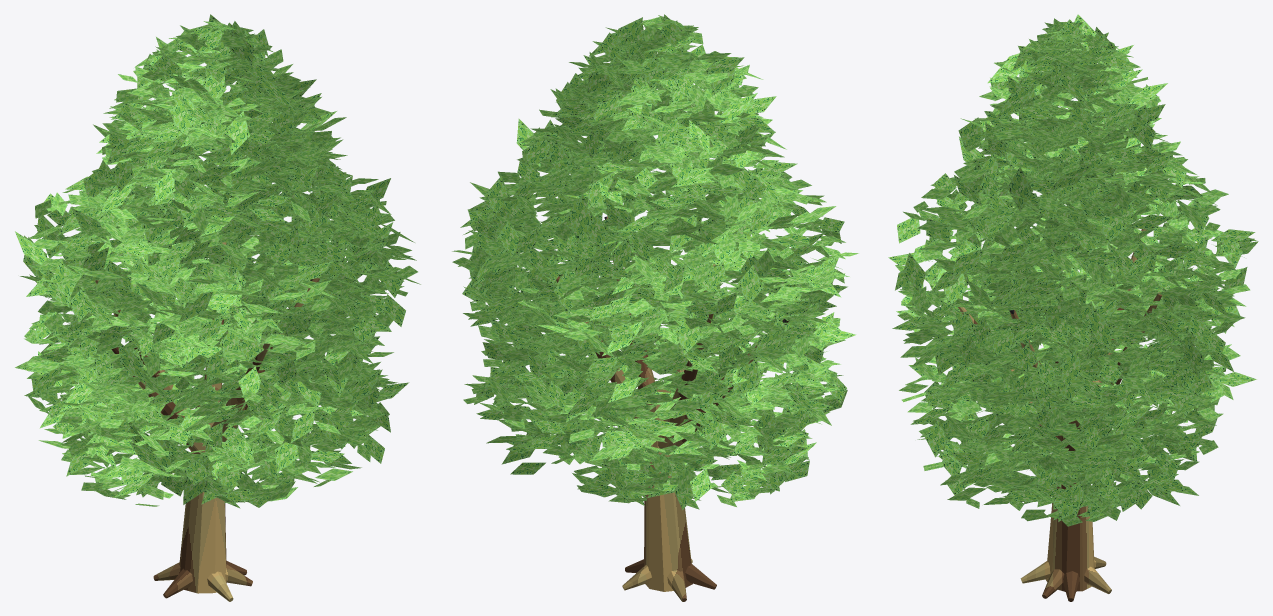
The model's file is cg_evergreen.glb.
3 views of the same model, side by side, from view 1: azimuth 30°, elevation 25°; view 2: azimuth 150°, elevation 25°; view 3: azimuth 270°, elevation 25° (orthographic).
Visible parts, largest first — view 1: Canopy, Body; view 2: Canopy, Body; view 3: Canopy, Body.
Part boxes in pixels (x1,y1,x2,y2): Canopy: (15,14,420,508); Body: (95,242,319,601); Canopy: (452,14,858,510); Body: (556,216,789,601); Canopy: (888,14,1258,526); Body: (958,229,1162,601).
Bounding box in the file's own units: 6.31 × 8.78 × 5.26.
2 materials, 2 textured.
